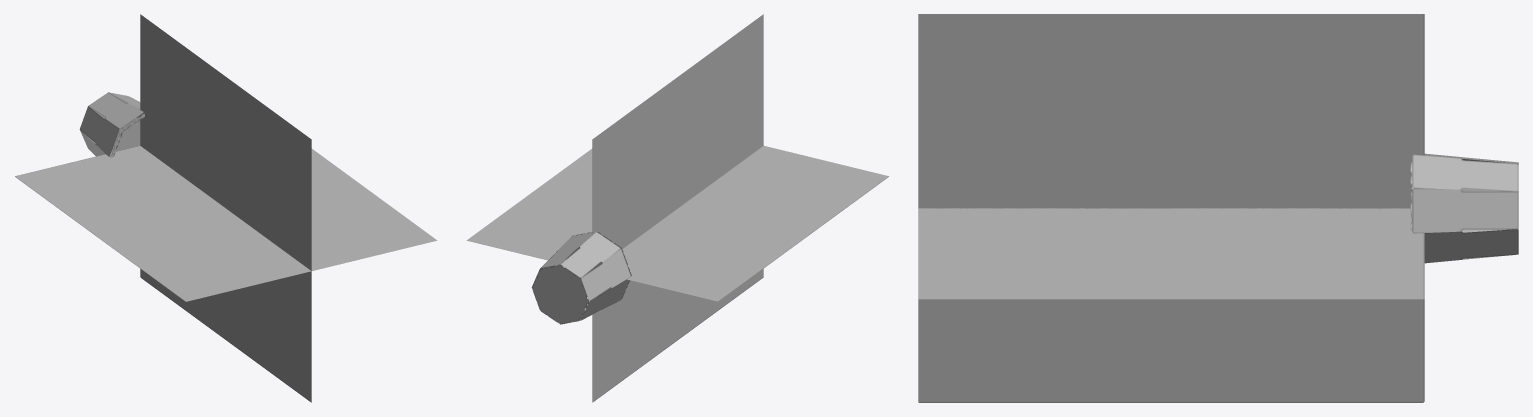
File: pz_plant_native_27.obj
3 views of the same model, side by side, from view 1: azimuth 30°, elevation 25°; view 2: azimuth 150°, elevation 25°; view 3: azimuth 270°, elevation 25° (orthographic). The views are drawn at different scales.
Parts seen in each view (by area): view 1: foliage_PNG_crossed_cards, pot_soil_and_rim; view 2: foliage_PNG_crossed_cards, pot_soil_and_rim; view 3: foliage_PNG_crossed_cards, pot_soil_and_rim.
Boxes of the visible parts, box(x1,y1,x2,y2) form: foliage_PNG_crossed_cards: box(15, 14, 437, 402); pot_soil_and_rim: box(79, 92, 144, 157); foliage_PNG_crossed_cards: box(466, 14, 888, 402); pot_soil_and_rim: box(531, 232, 631, 324); foliage_PNG_crossed_cards: box(918, 14, 1424, 402); pot_soil_and_rim: box(1410, 153, 1518, 263).
Size of the model in its own units: 0.7535 by 0.7535 by 1.05.
Materials: 1 (1 with a texture image).
